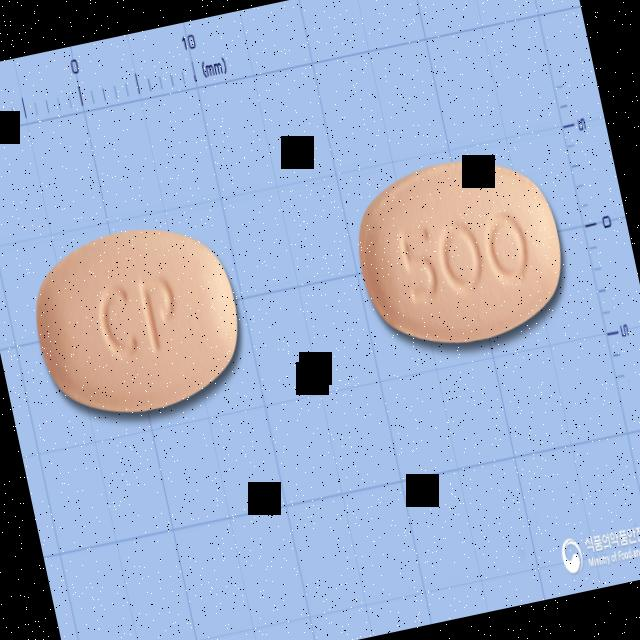Refloxin Tab- -For Export-: (343, 141, 578, 362), (21, 210, 253, 431)
